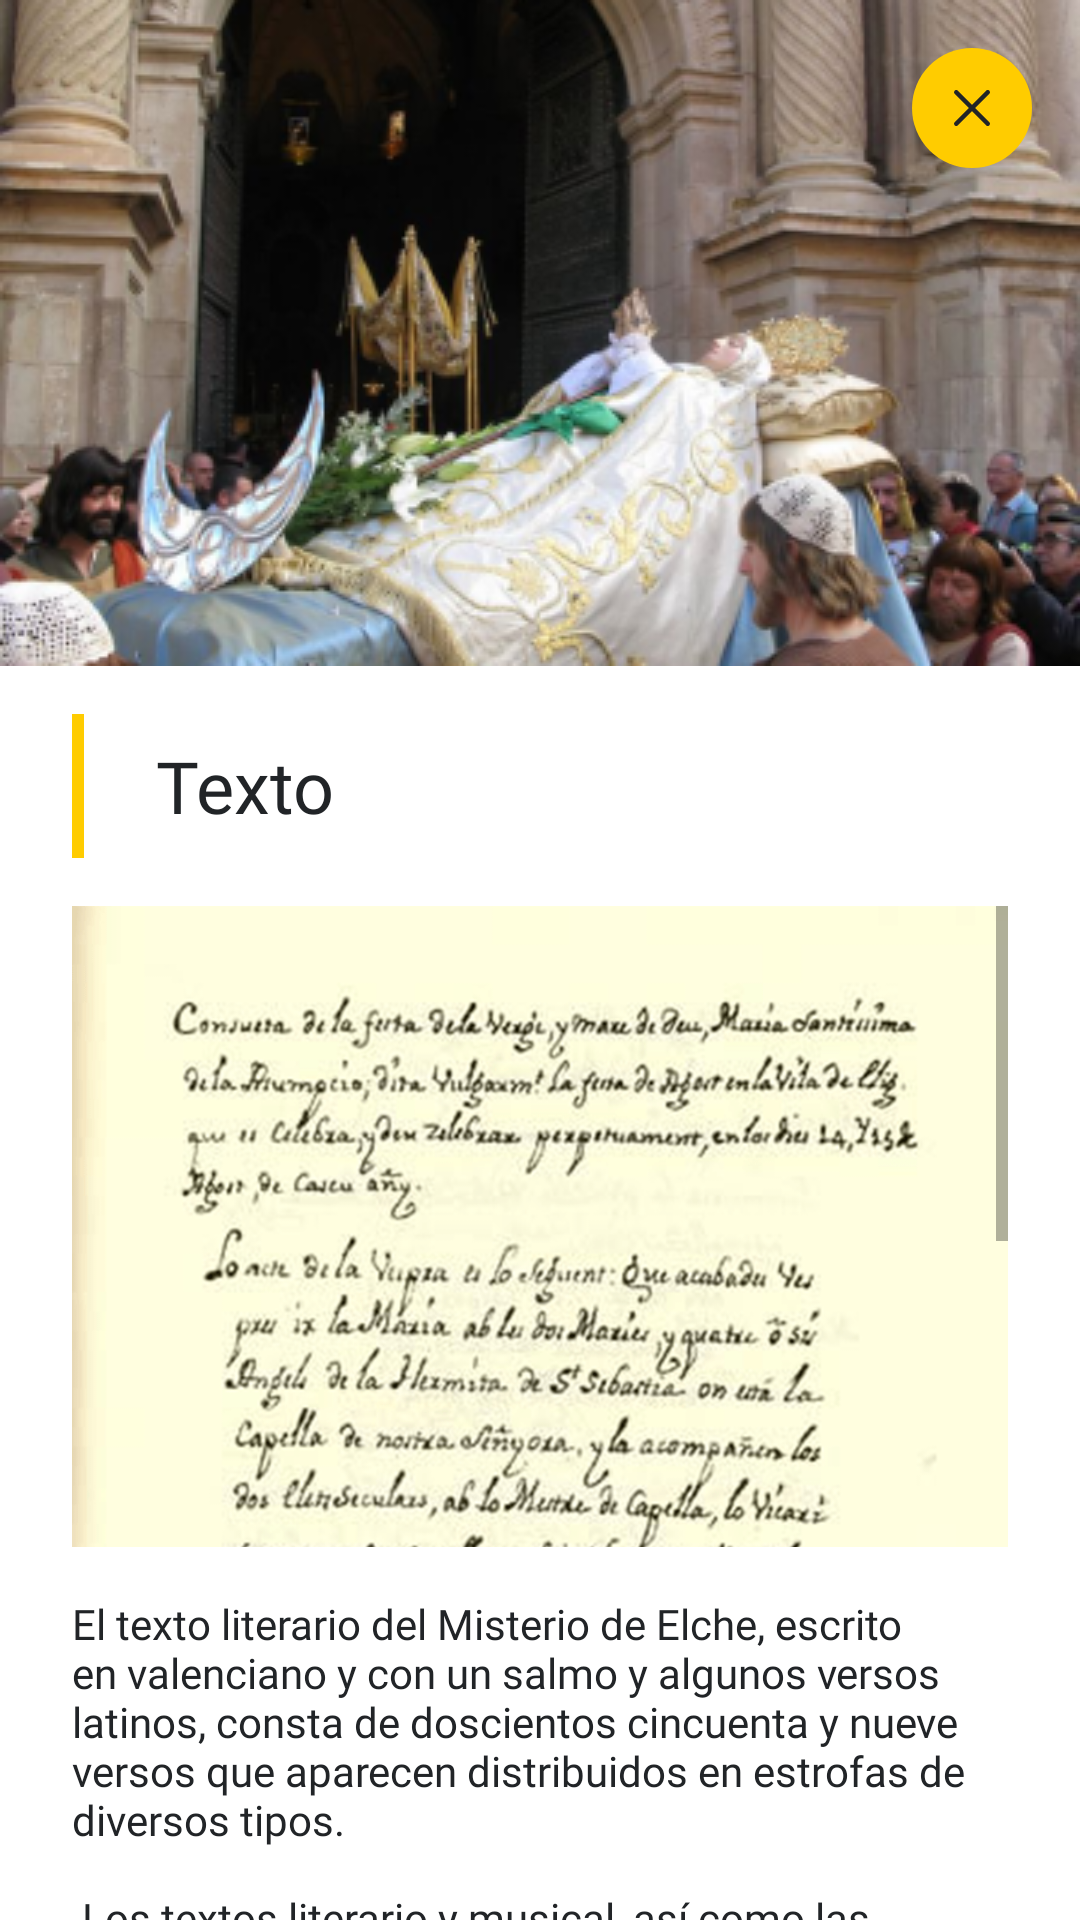

Icons on this 1080*1920 Android screen, each with the point to tap as (x,y):
iconoir cancel: (972,108)
